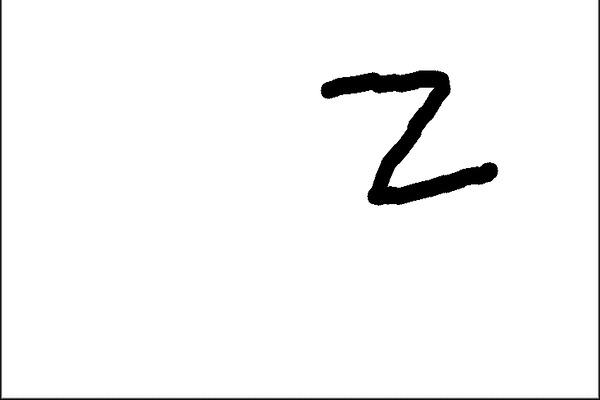Z: (309, 66, 502, 210)
